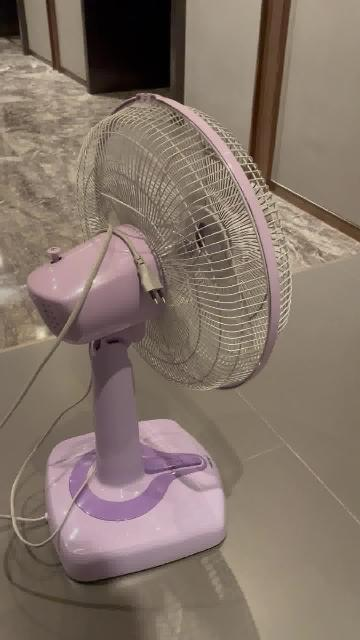Fan: (27, 94, 291, 585)
